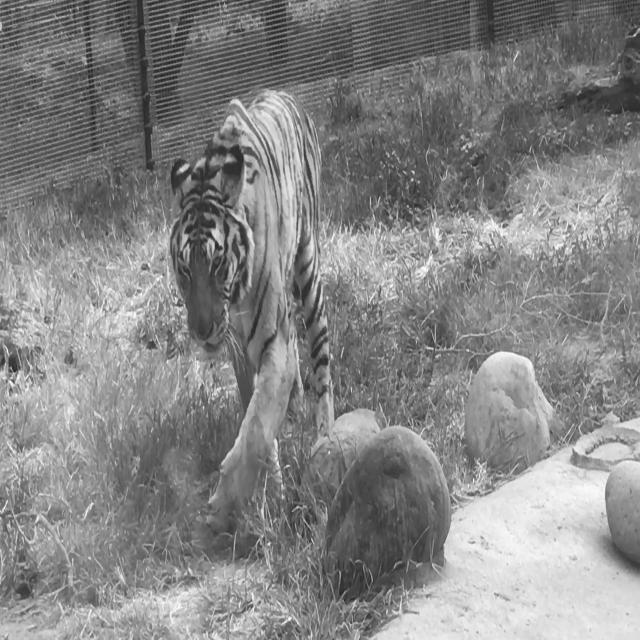Tiger: (167, 86, 335, 536)
